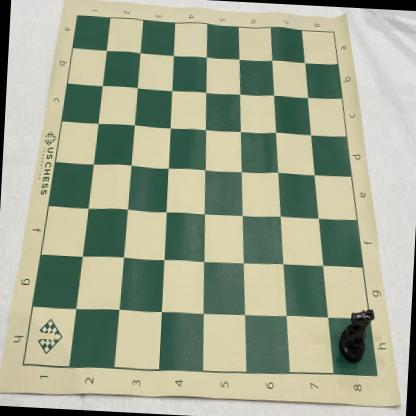knight: (338, 307, 374, 364)
